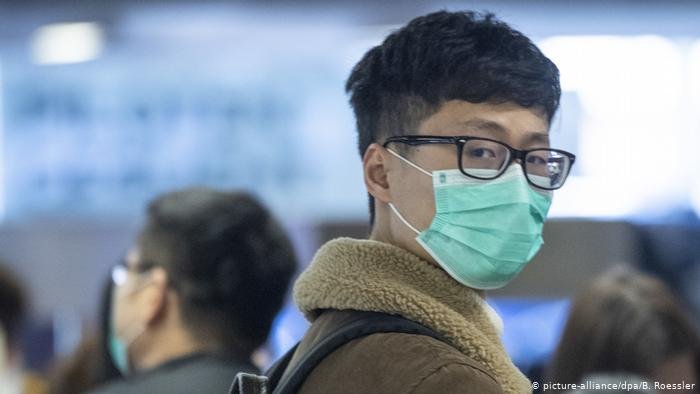surgical: (405, 156, 559, 291)
